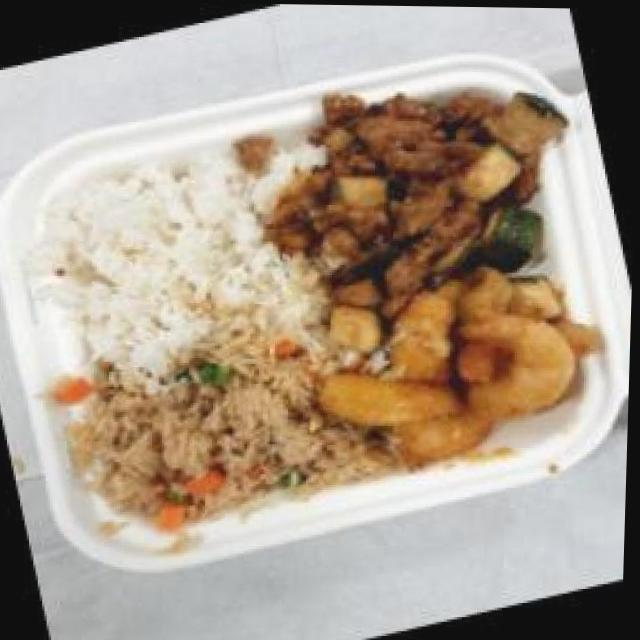Fried Rice: (50, 319, 369, 562)
Honey Walnut Shrimp: (292, 237, 628, 500)
Kung Pao Chicken: (253, 38, 602, 320)
White Steamed Rice: (29, 138, 300, 375)
